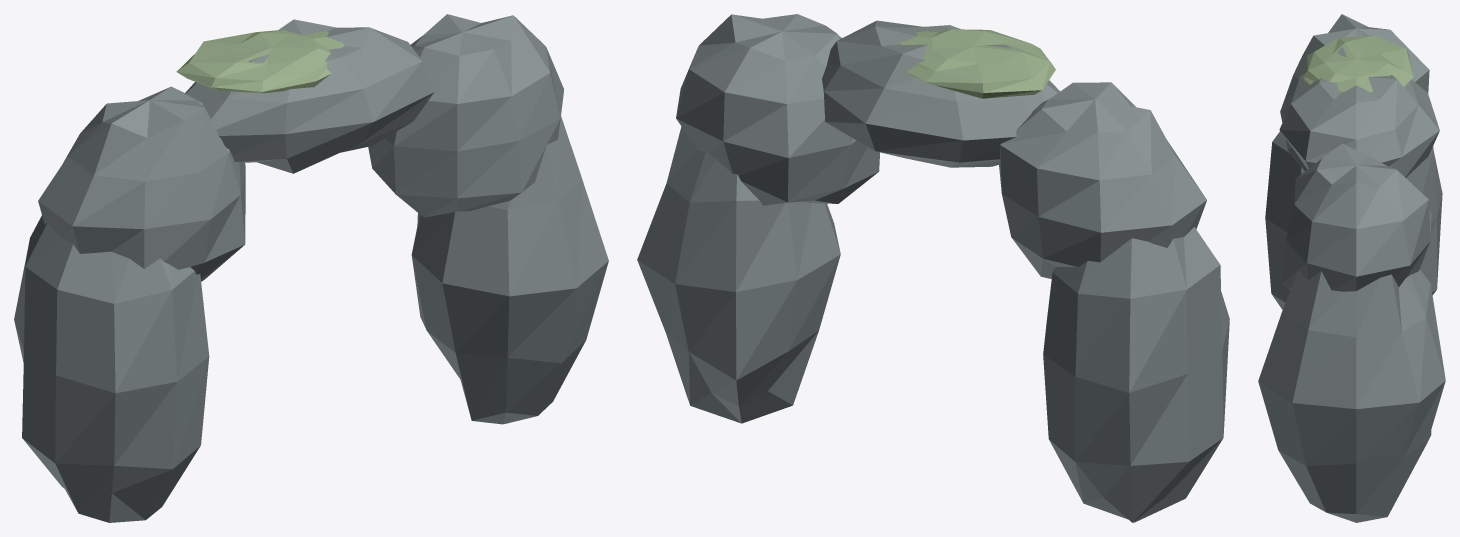
File: primeval-frontier-stone-arch-0f807aa4__1753.glb
3 renders of one model, left to right at view 1: azimuth 30°, elevation 25°; view 2: azimuth 150°, elevation 25°; view 3: azimuth 270°, elevation 25°, orthographic. The views are drawn at different scales.
Parts seen in each view (by area): view 1: stone-arch; view 2: stone-arch; view 3: stone-arch.
Part boxes in pixels (x1=…): stone-arch: x1=14, y1=14, x2=608, y2=522; stone-arch: x1=637, y1=14, x2=1229, y2=522; stone-arch: x1=1258, y1=14, x2=1445, y2=522.
Bounding box in the file's own units: 4.73 × 3.6 × 1.65.
